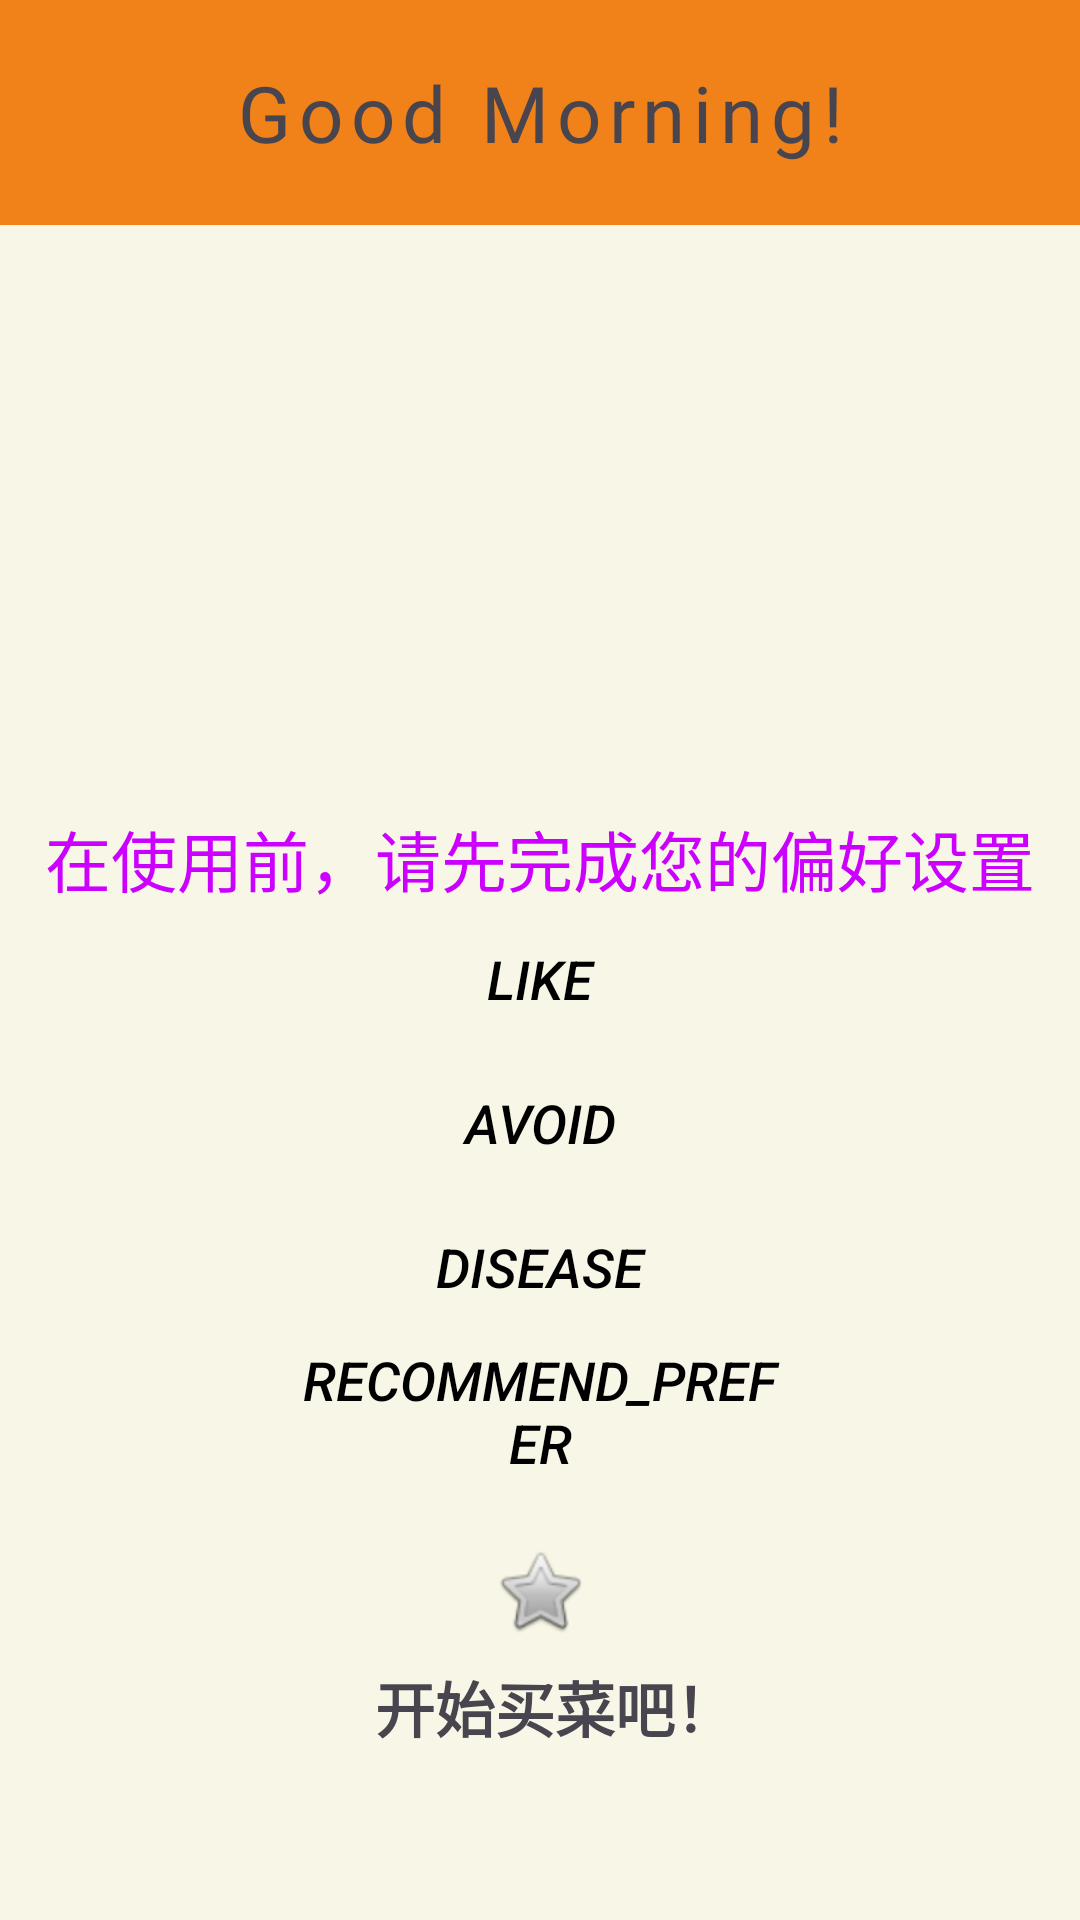

Named icons in this screenshot (1080px x 1920px) and their bounding boxes, [x1, y1, x2, y2]:
star: [501, 1553, 581, 1631]
